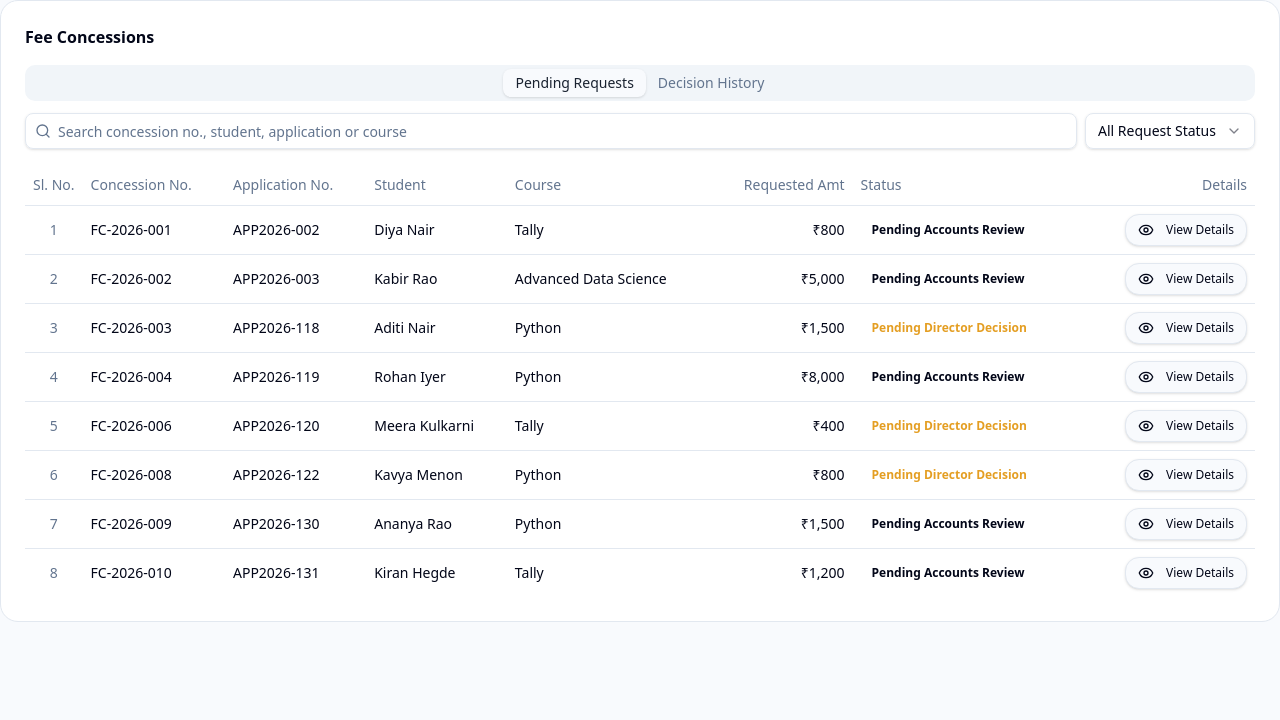
Scenario: Fee Concessions UI › shows the recorded approved amount and comments in the read-only details view
Later steps or results of the test are not shown.
Press the mouse on the tab "Decision History" at coordinates (711, 83), box [646, 69, 776, 97]
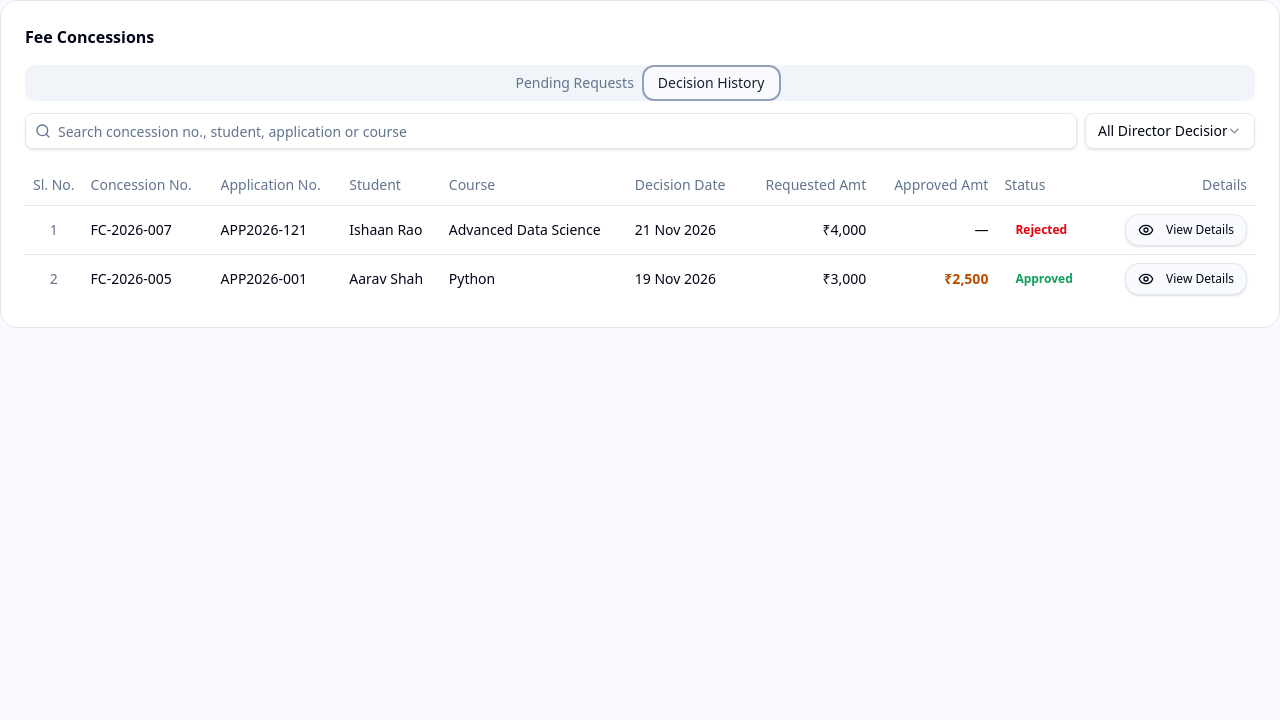
Result: the text "FC-2026-005" is shown at [91, 268, 172, 288]
